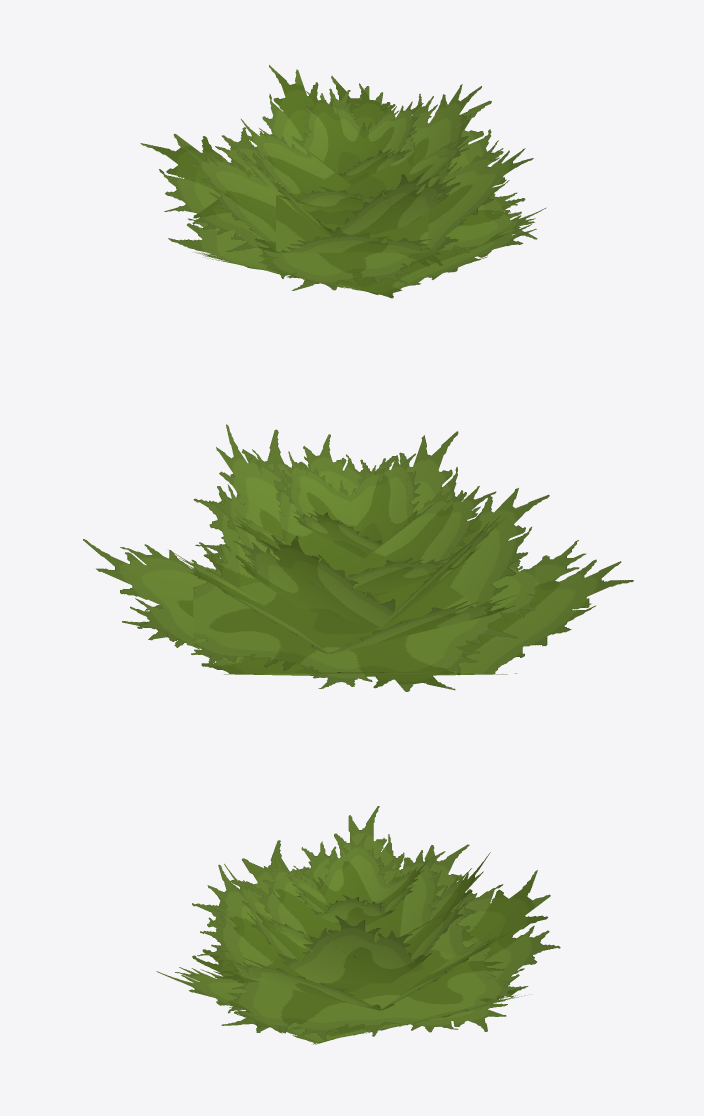
File: Sagebrush_preview_3DS_simplified.glb
The picture shows the model from 3 angles, top to bottom: view 1: azimuth 30°, elevation 25°; view 2: azimuth 150°, elevation 25°; view 3: azimuth 270°, elevation 25°; orthographic projection. The views are drawn at different scales.
Visible parts, largest first — view 1: Marine Park Empire model; view 2: Marine Park Empire model; view 3: Marine Park Empire model.
Part boxes in pixels (x1=…): Marine Park Empire model: x1=140, y1=65, x2=546, y2=298; Marine Park Empire model: x1=83, y1=424, x2=633, y2=691; Marine Park Empire model: x1=156, y1=806, x2=560, y2=1044.
Bounding box in the file's own units: 220 × 65.56 × 220.
1 material, 1 textured.
